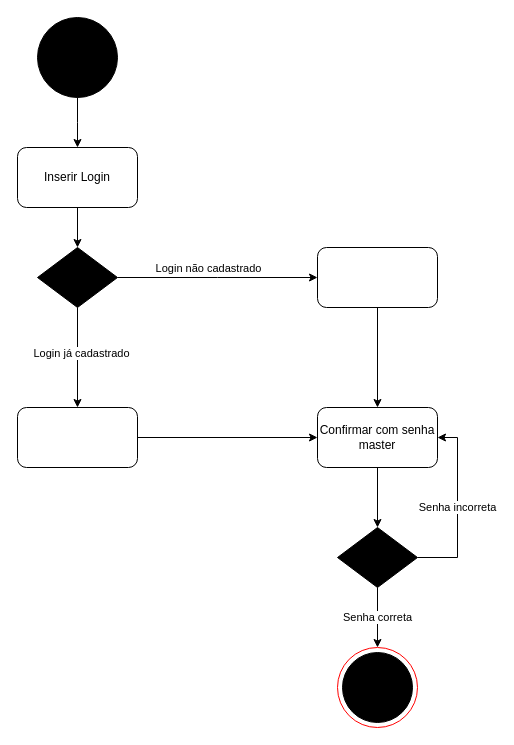
Image size: 514x745. Some labels were removed from this diagram. The centre of each missing label's shape, as x and y in pixels:
Inserir dados do novo Usuário: point (377, 277)
Modificar Usuário: point (77, 437)
